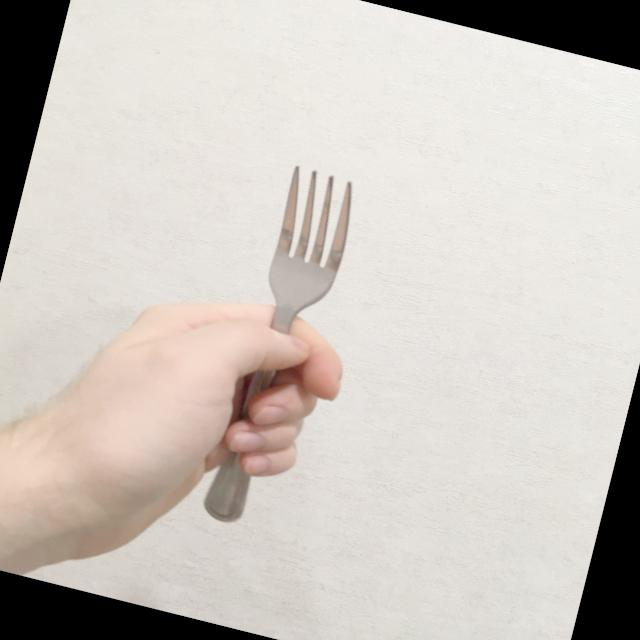fork: (199, 160, 363, 538)
